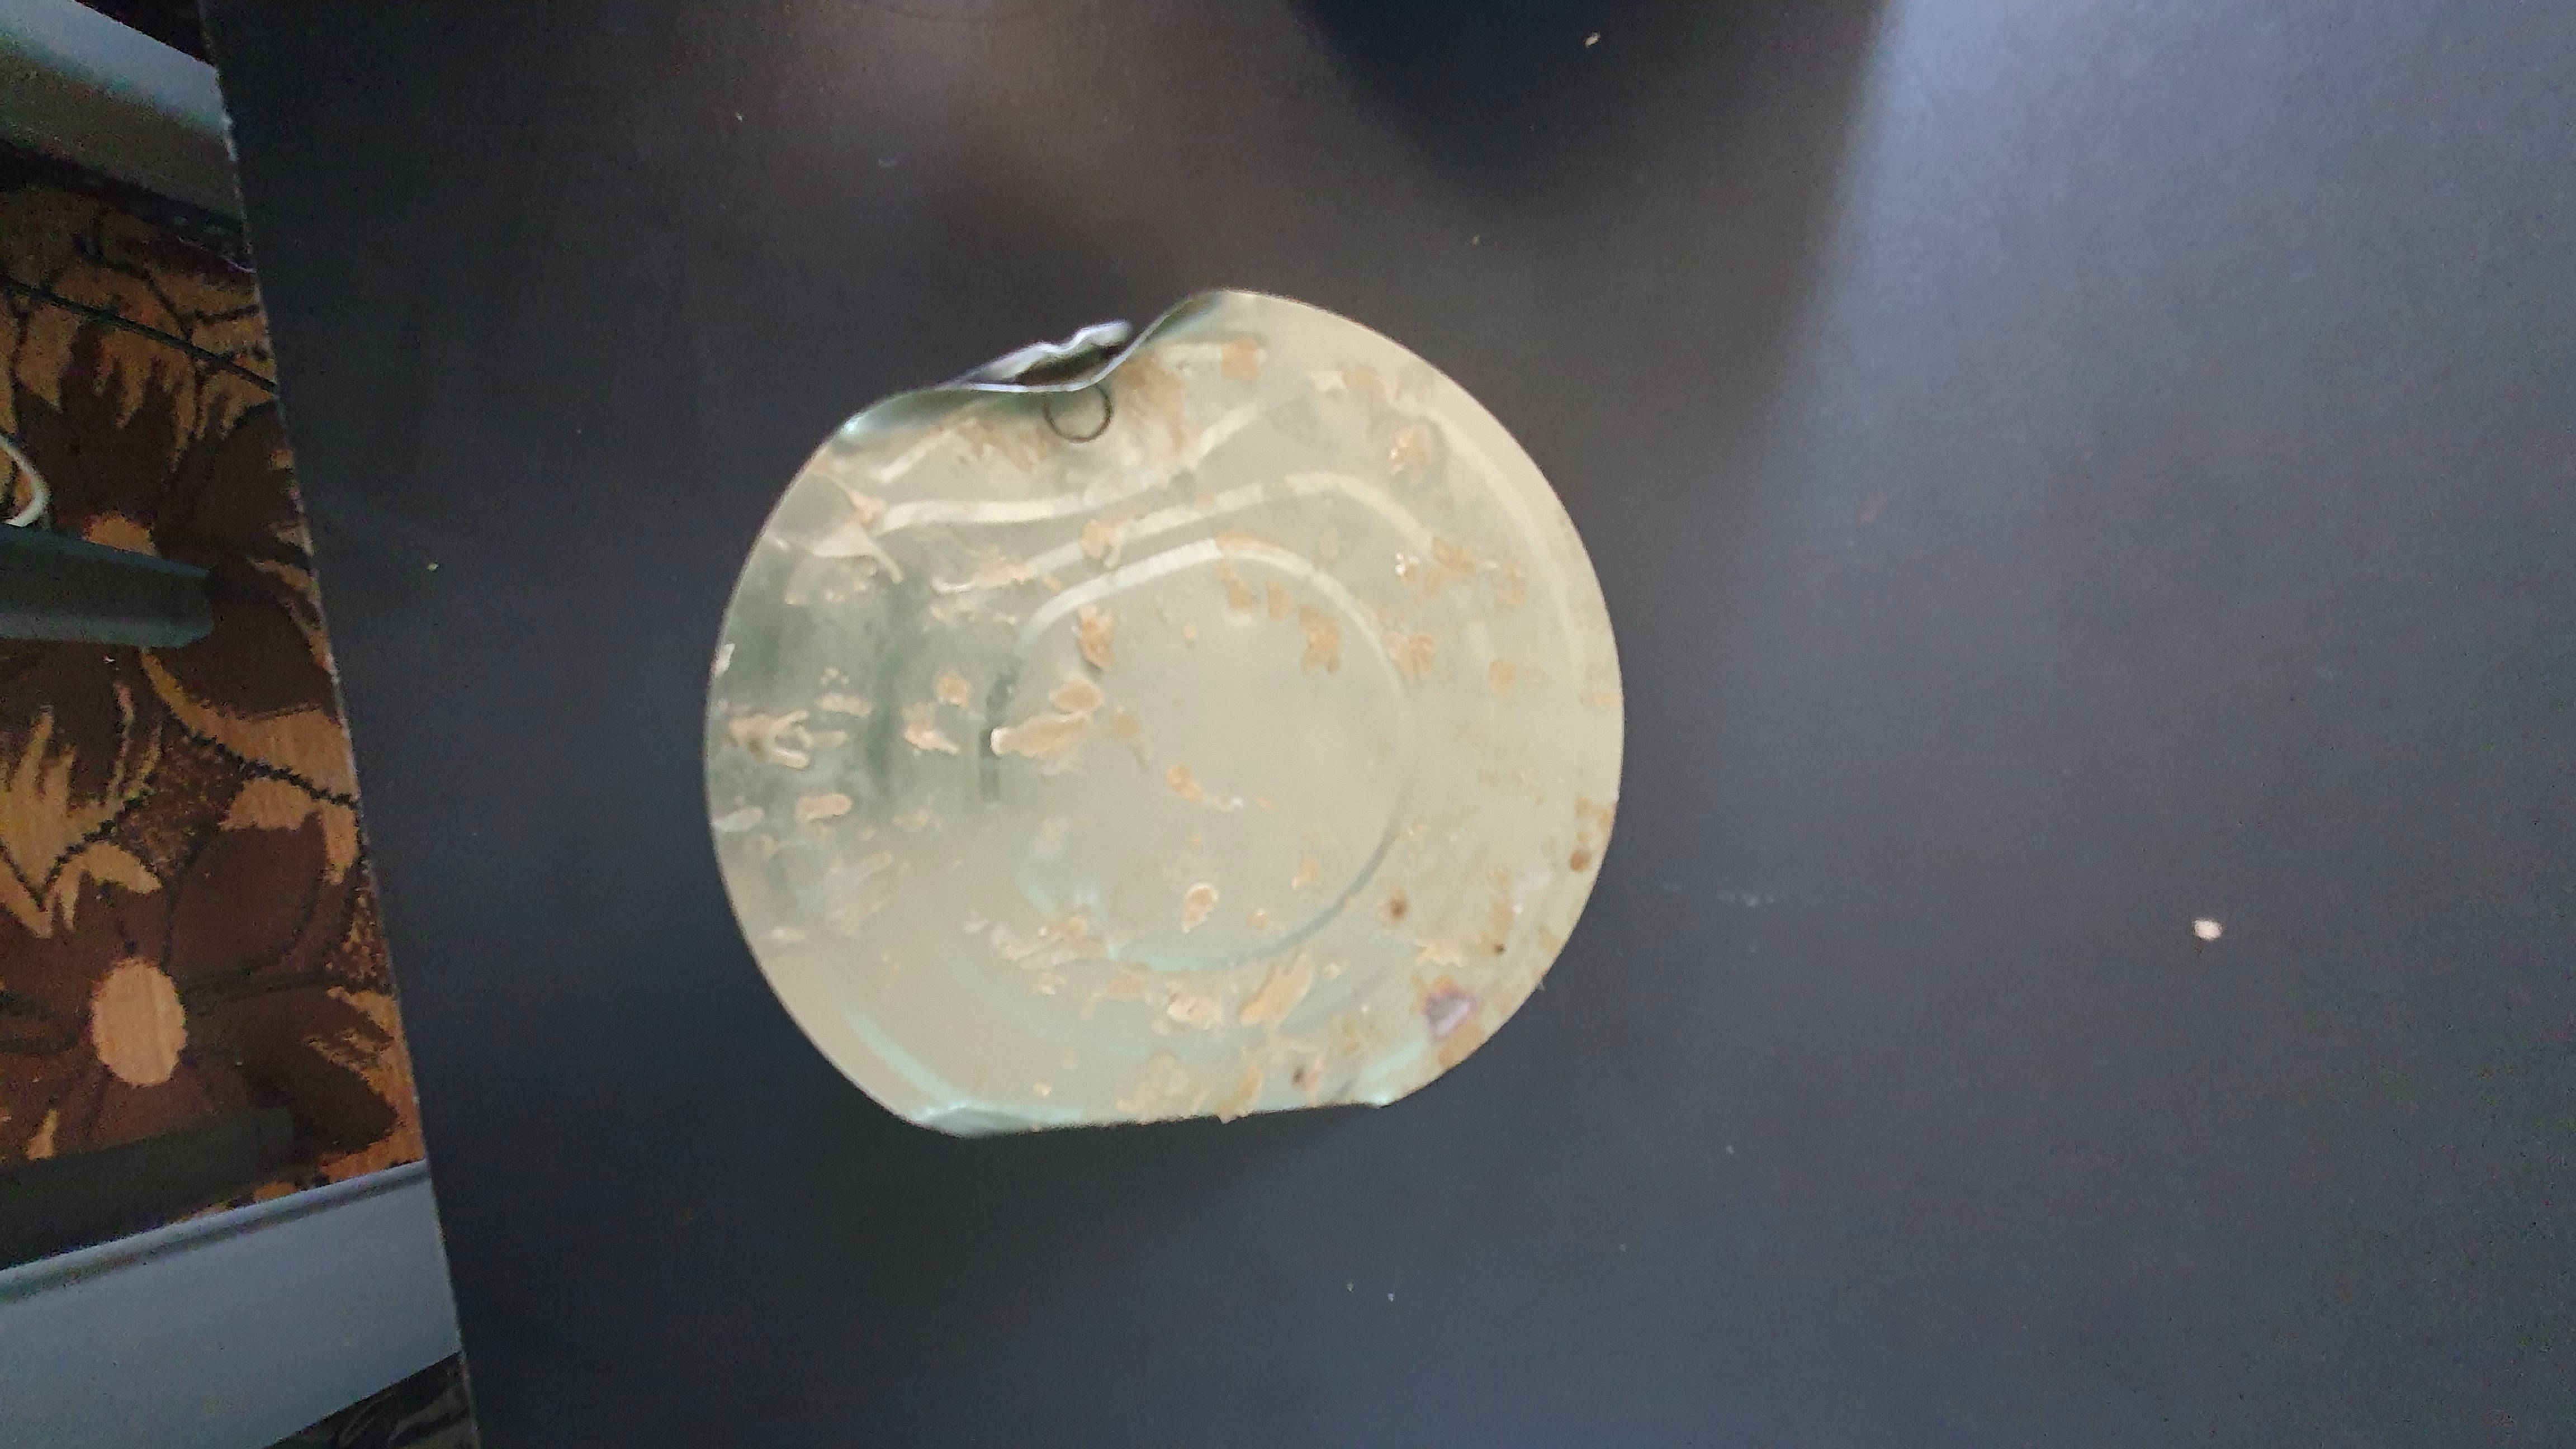metal: (663, 251, 1663, 1175)
